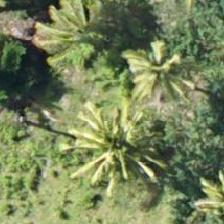coconut_tree: (71, 104, 161, 194), (113, 31, 203, 121), (27, 0, 117, 81)
